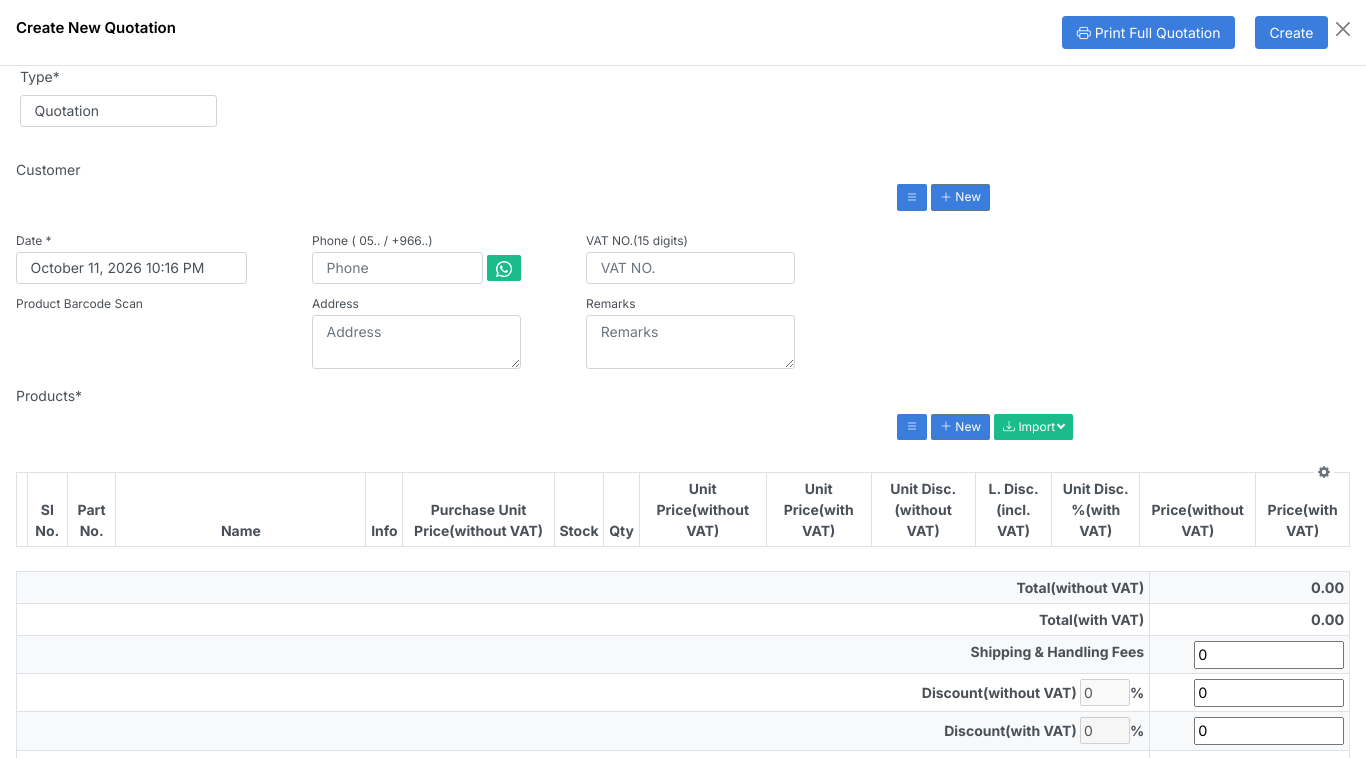
Quotation form: Import > From Quotations (integration) › searches quotations with the store id and newest-first sort
The image size is (1366, 758).
Click the button with test id "import-dropdown-btn" at (1034, 427), box 994,414 -> 1073,440
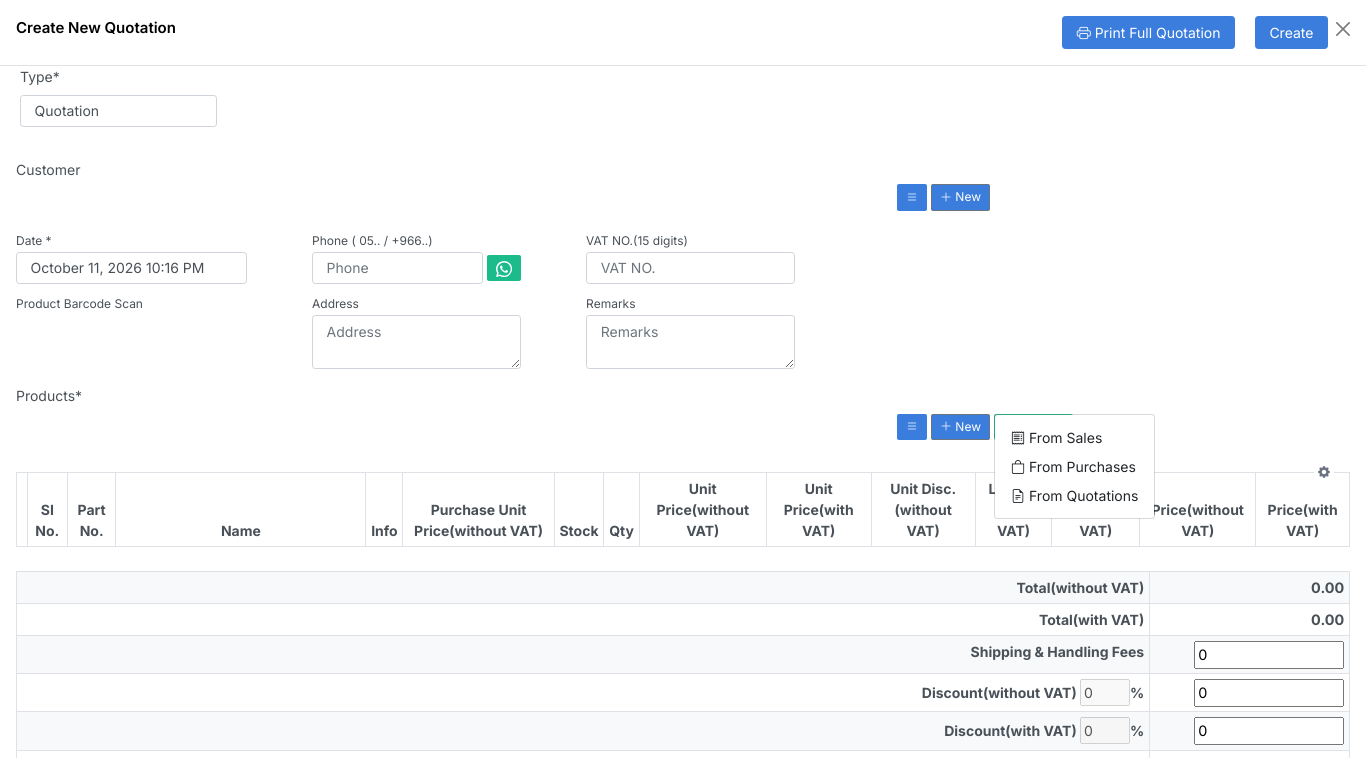
Click the button with test id "import-from-quotation-btn" at (1075, 495), box 1011,487 -> 1138,504
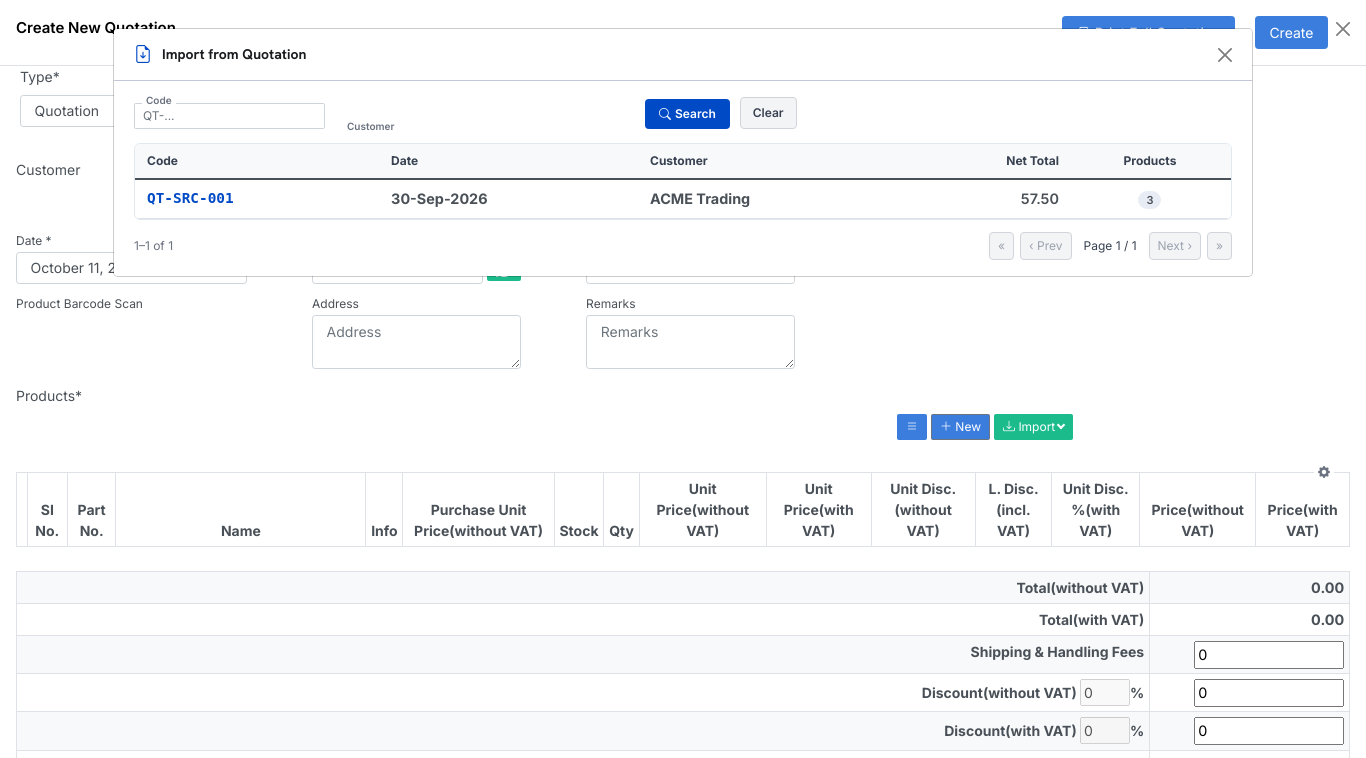
Click the text "QT-SRC-001" at (258, 199), box 135,179 -> 381,218
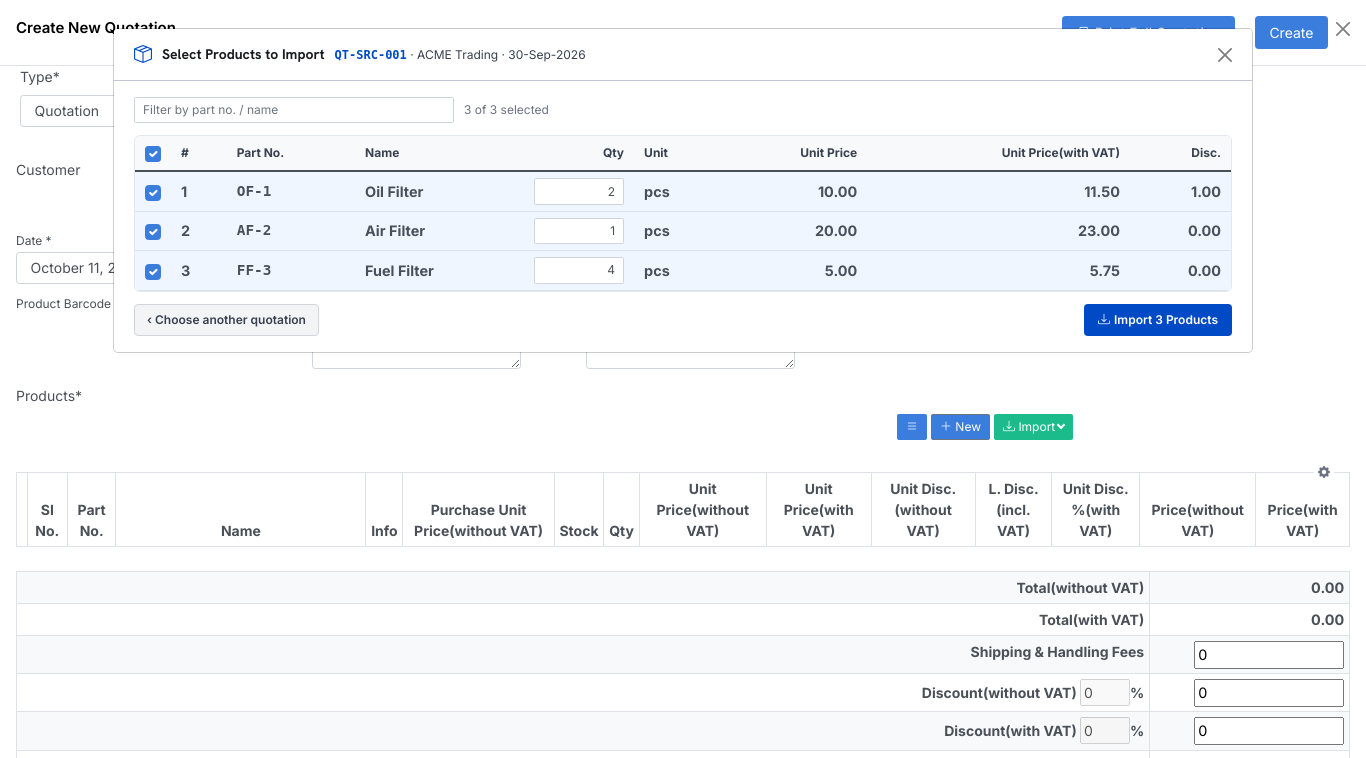
Expected: the heading "Select Products to Import" is shown, 162,46 -> 325,63
